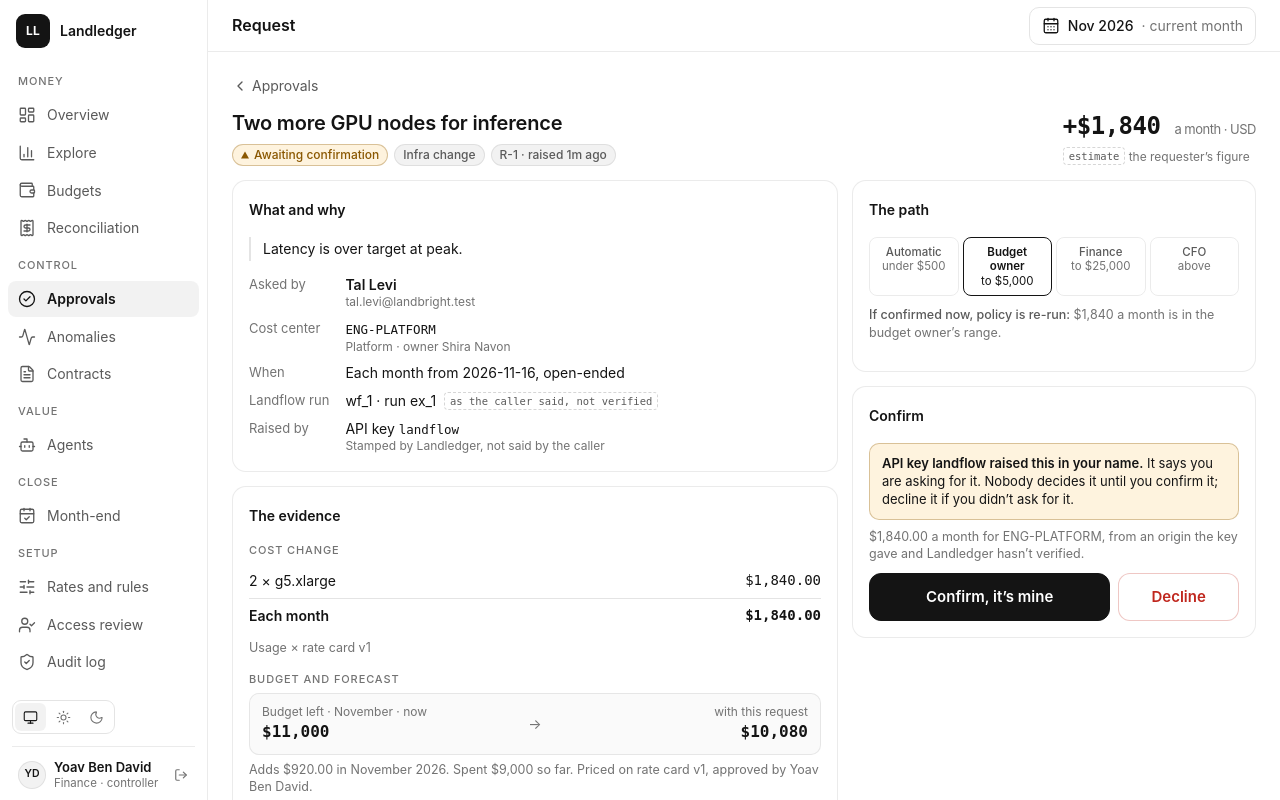
review of wave 2 on the request page › asks the named person to confirm a request a key raised in their name, or decline it with a reason
Later steps or results of the test are not shown.
Expected: the element with test id "confirm-card" shows "API key landflow raised this in your name.", [869, 443, 1239, 621]
Expected: the text "as the caller said, not verified" is shown, [444, 392, 658, 410]
# Decline needs a reason first.
What coordinates should you click on to do the following:
click the button with test id "decline"
I would click on:
 (1179, 597)
Its box is [1118, 573, 1239, 621].
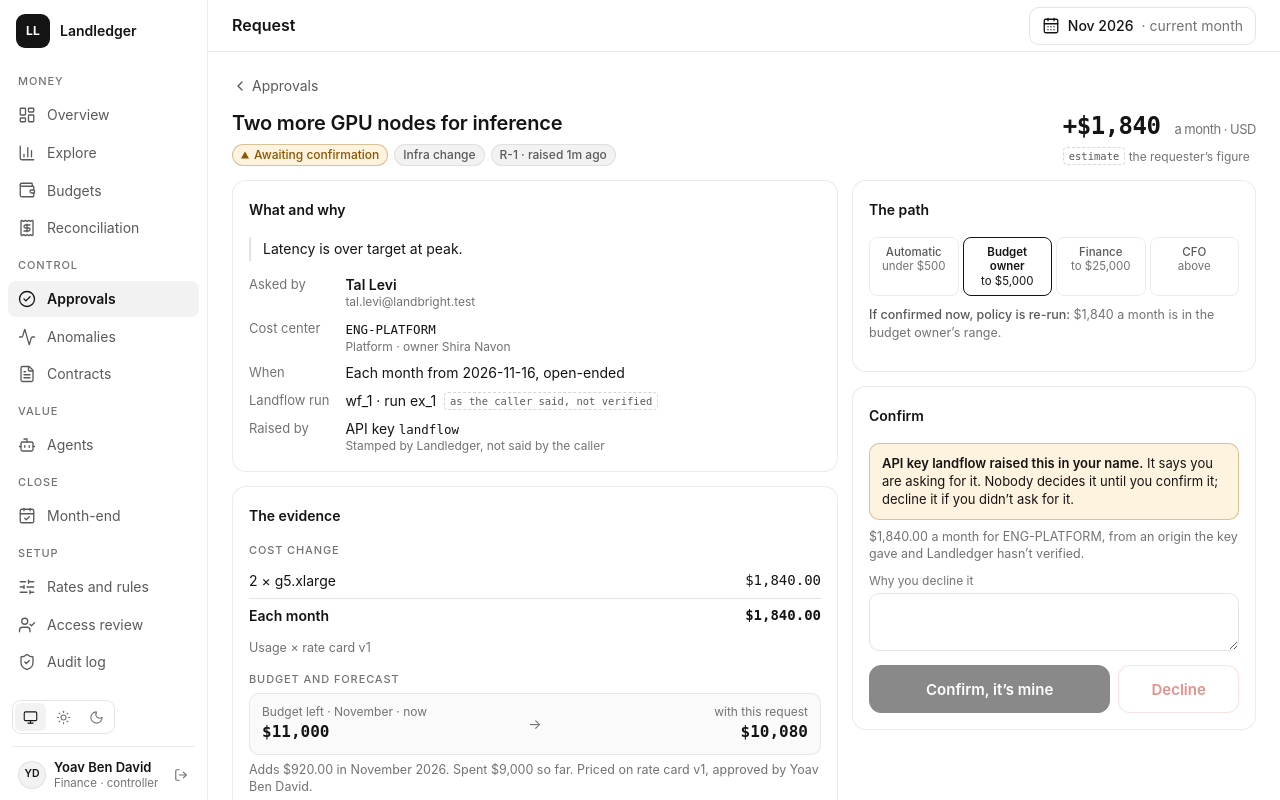
Expected: the button with test id "decline" is disabled, [1118, 665, 1239, 713]
